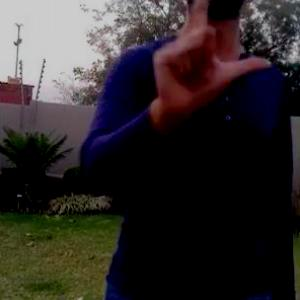land_hand: (148, 0, 272, 121)
